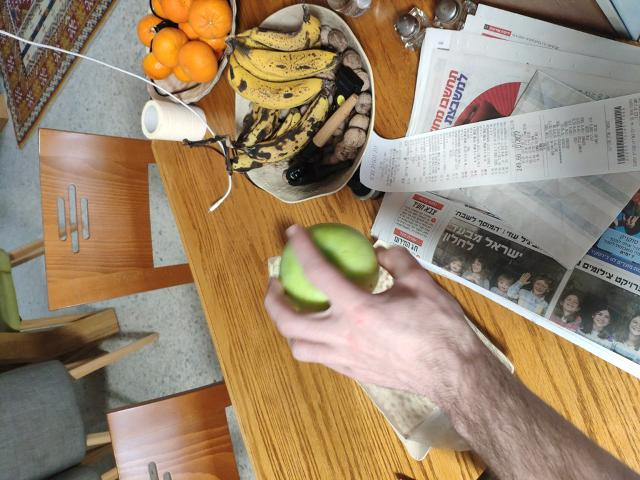apple: (273, 226, 386, 321)
